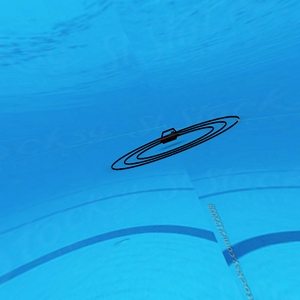circle: (104, 109, 246, 174)
submarine: (157, 126, 185, 147)
